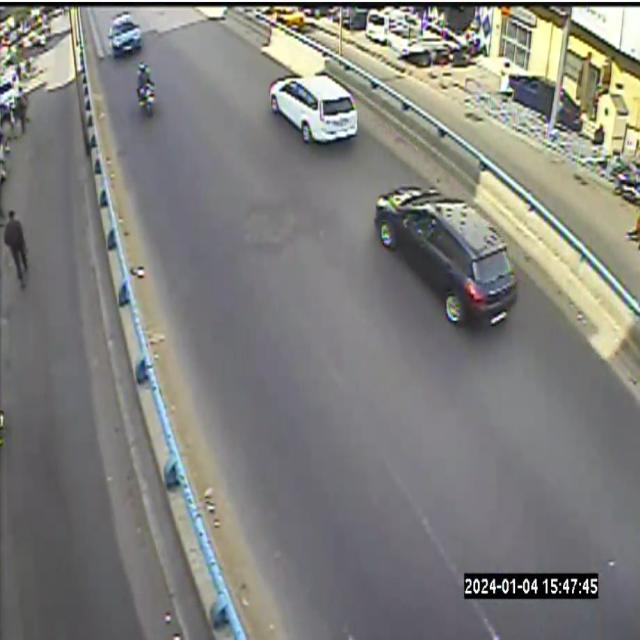car: (375, 180, 519, 335), (374, 183, 517, 337), (375, 186, 516, 323)
